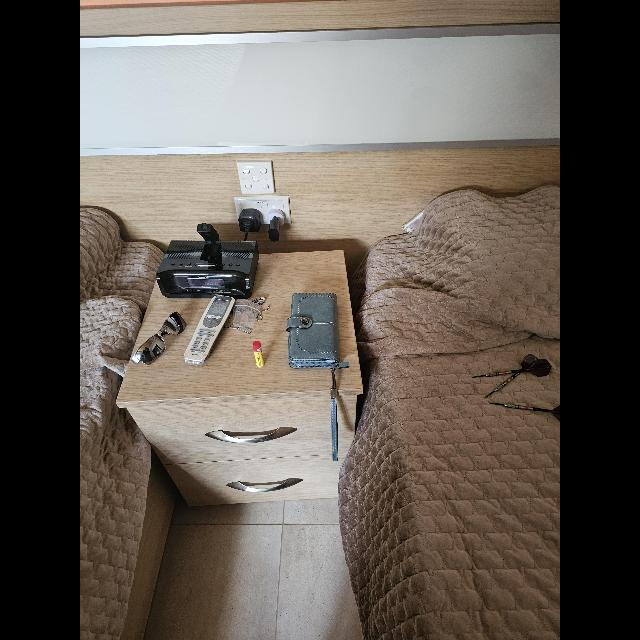Sunglasses: (130, 312, 186, 364)
Wallet: (287, 292, 341, 368)
